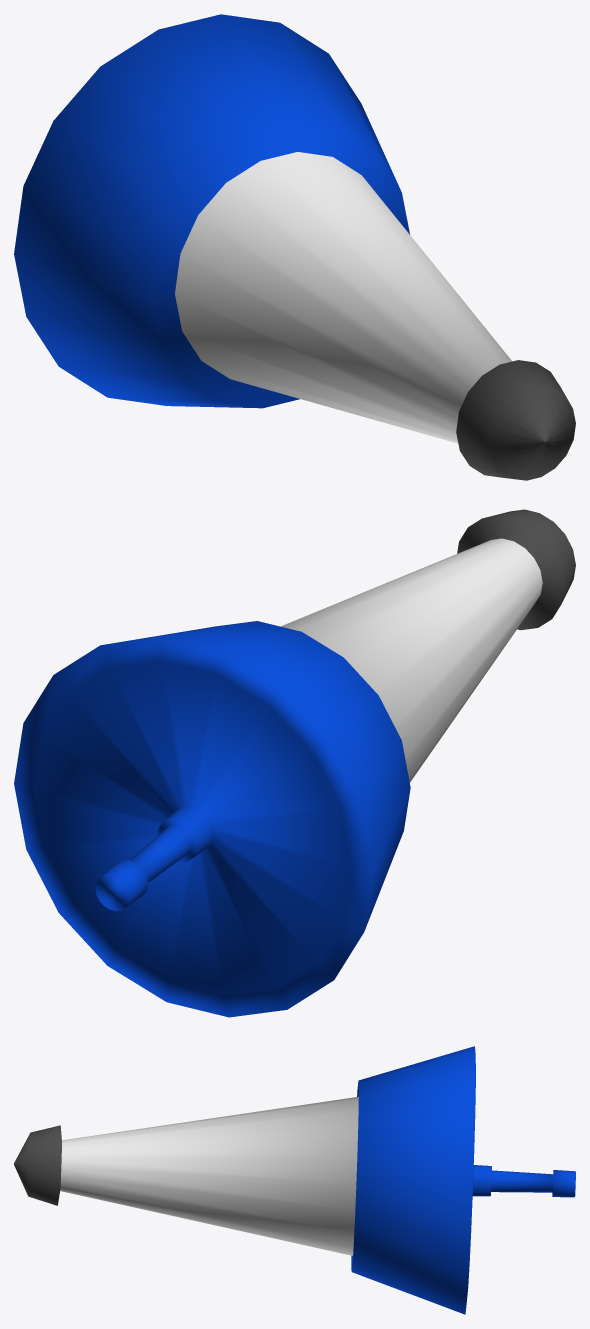
The model's file is lanza_Knight.FBX.
3 views of the same model, one above another, from view 1: azimuth 30°, elevation 25°; view 2: azimuth 150°, elevation 25°; view 3: azimuth 270°, elevation 25° (orthographic). The views are drawn at different scales.
Parts seen in each view (by area): view 1: Cylinder001; view 2: Cylinder001; view 3: Cylinder001.
Boxes of the visible parts, left/top/right/bottom form: Cylinder001: left=14, top=14, right=575, bottom=480; Cylinder001: left=14, top=509, right=575, bottom=1017; Cylinder001: left=14, top=1046, right=575, bottom=1314.
Bounding box in the file's own units: 4.76 × 4.68 × 9.91.
